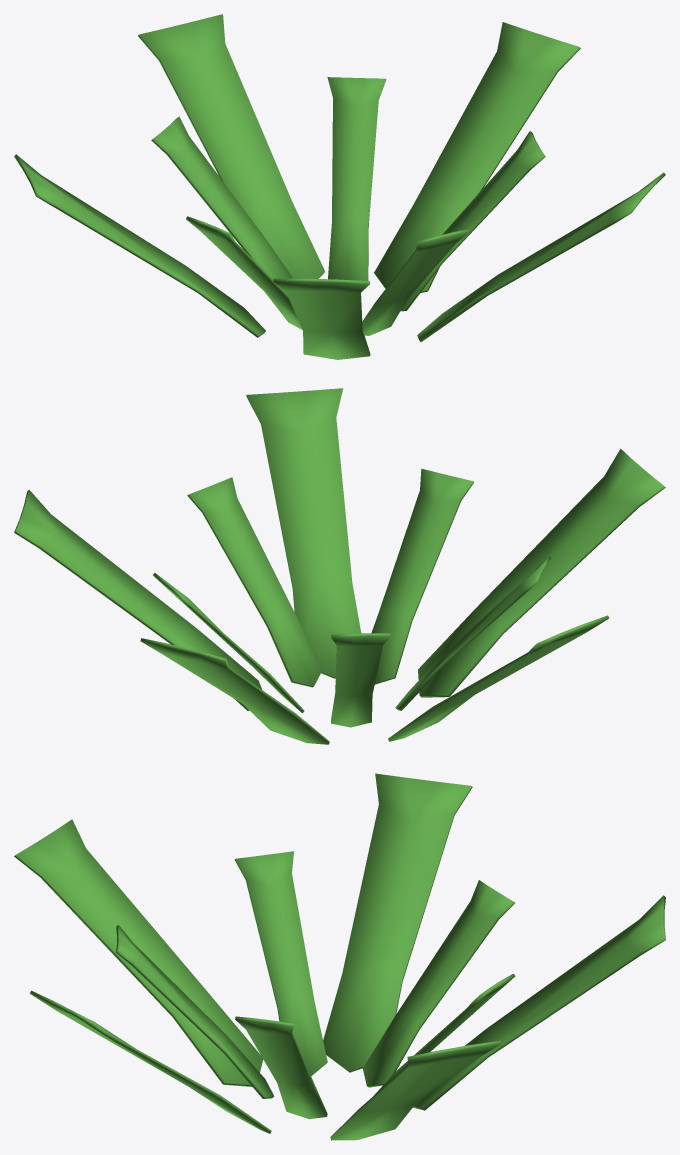
File: Mandragore_1.fbx
3 renders of one model, top to bottom at view 1: azimuth 30°, elevation 25°; view 2: azimuth 150°, elevation 25°; view 3: azimuth 270°, elevation 25°, orthographic. The views are drawn at different scales.
Visible parts, largest first — view 1: Mandr_1; view 2: Mandr_1; view 3: Mandr_1.
Part boxes in pixels (left/top/right/bottom): Mandr_1: left=14, top=14, right=665, bottom=359; Mandr_1: left=14, top=388, right=665, bottom=744; Mandr_1: left=14, top=773, right=665, bottom=1140.
Size of the model in its own units: 102 by 31.93 by 98.84.
